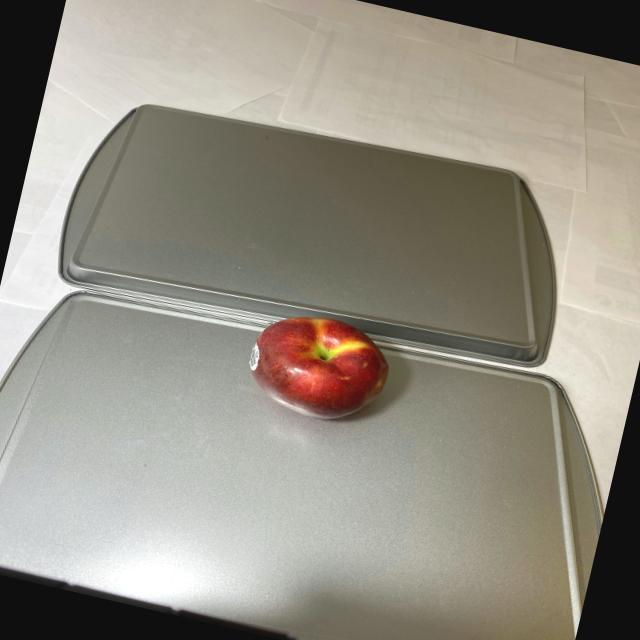apple: (242, 302, 402, 428)
